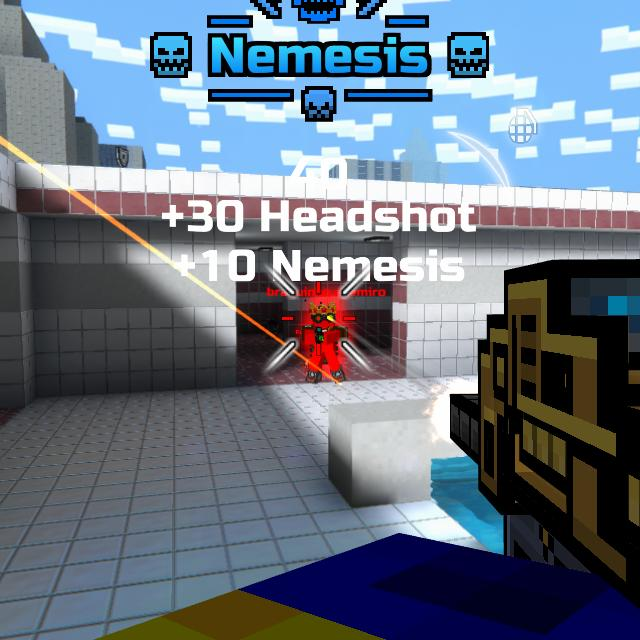Enemy: (301, 307, 348, 386)
